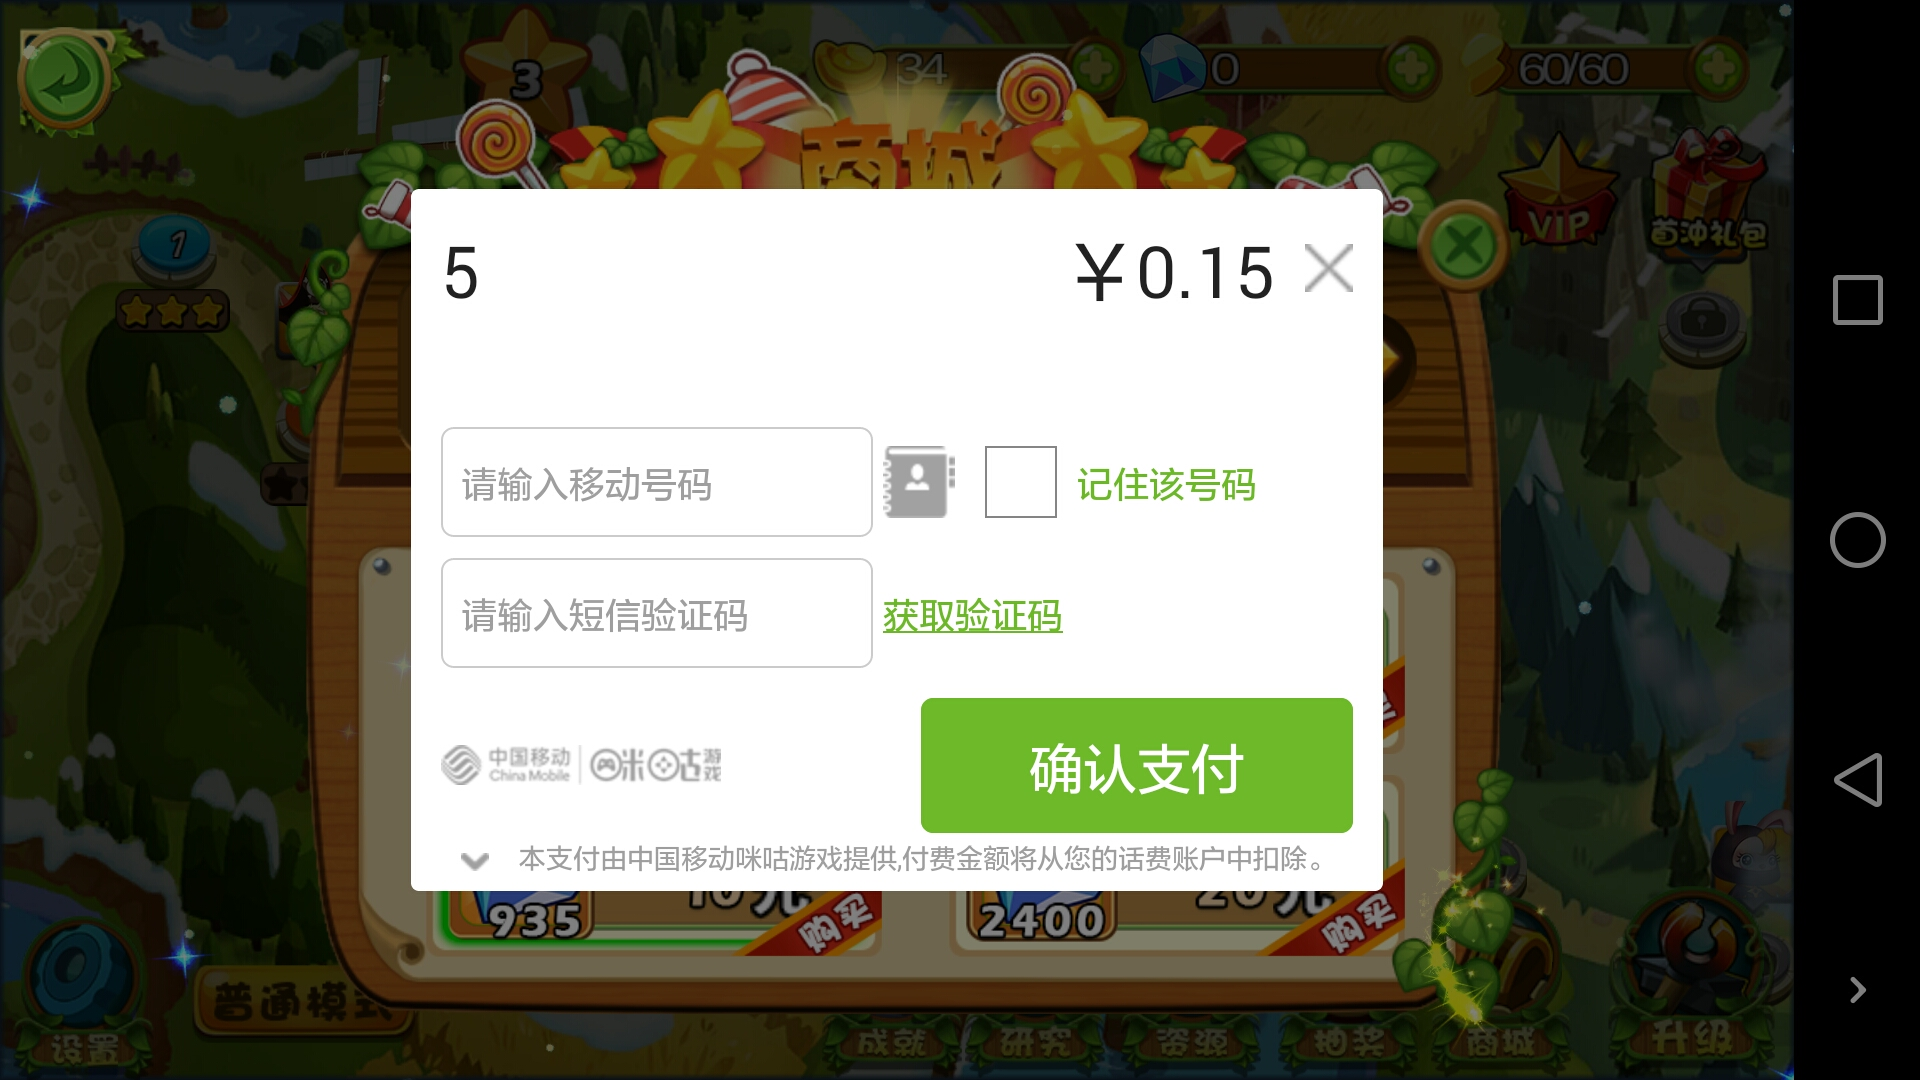textview: (876, 580, 1073, 647)
